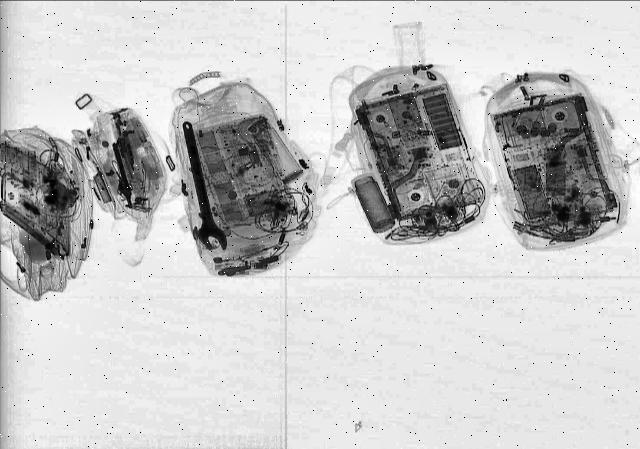Wrench: (170, 120, 230, 252)
